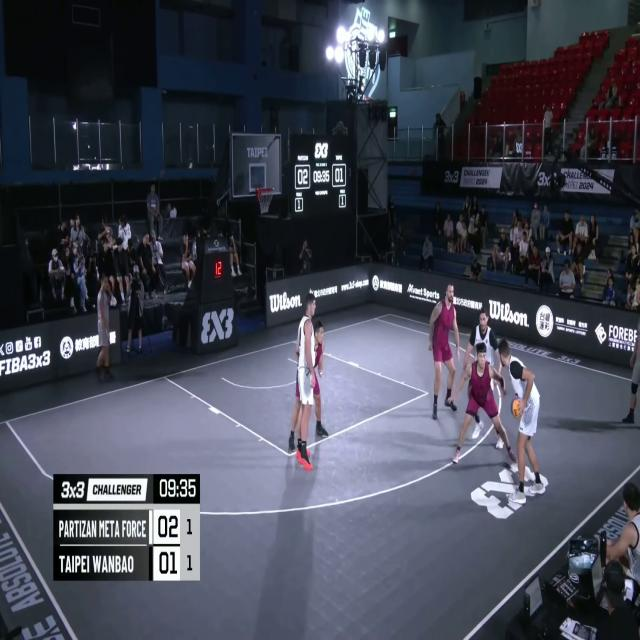ball: (510, 396, 526, 419)
hoop: (255, 183, 274, 218)
player: (496, 337, 548, 509), (454, 340, 515, 467), (284, 314, 329, 456), (460, 306, 500, 433), (293, 293, 317, 468), (428, 285, 458, 417)
